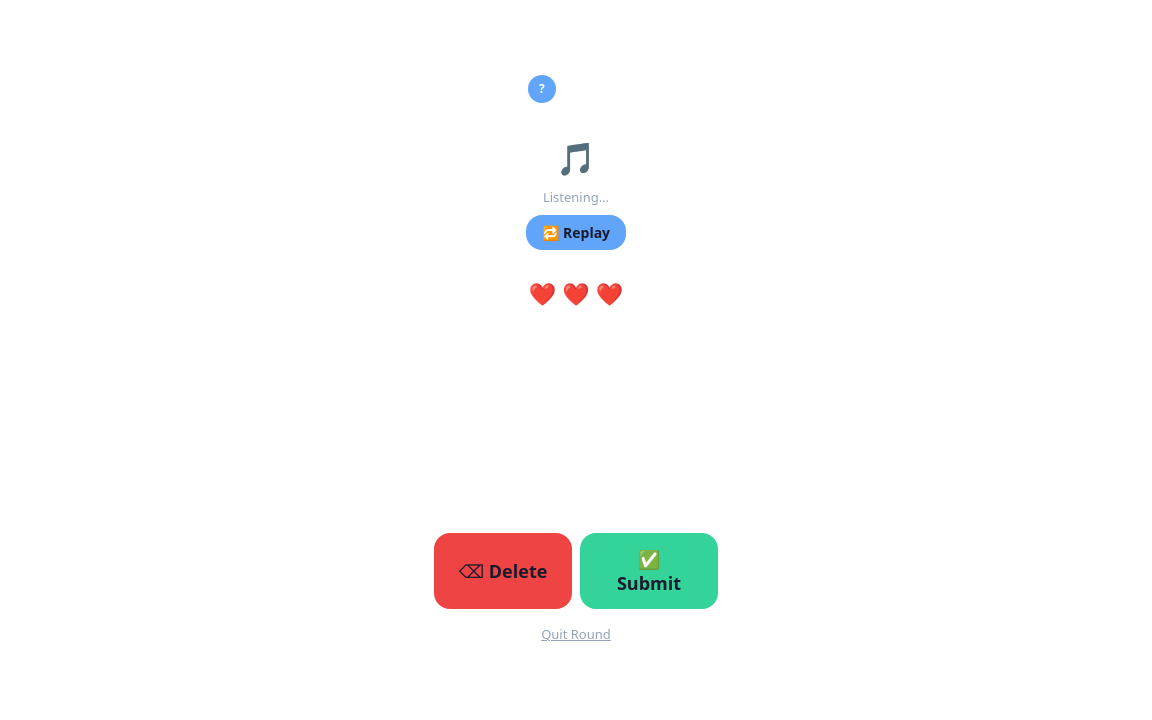
Test: Stage2Screen quit confirmation › shows confirmation dialog when quit is clicked
Click the text with test id "quit-button" at [576, 634], box [541, 625, 611, 643]
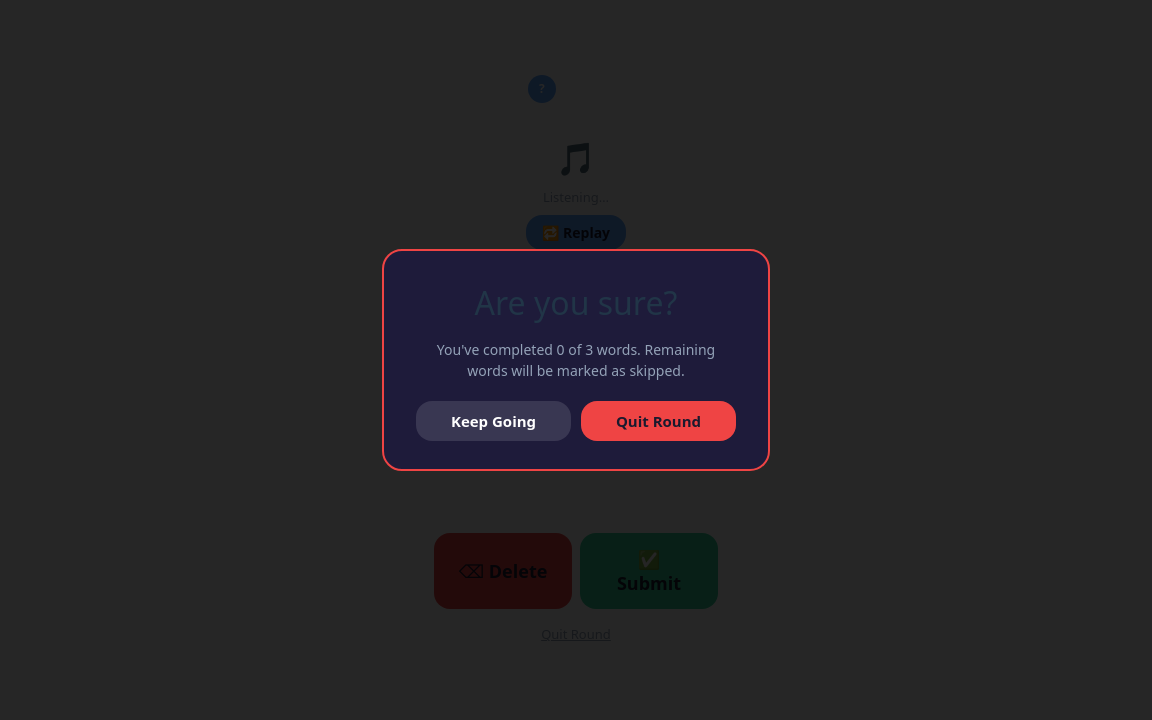
Result: the element with test id "quit-confirm" is shown
Result: the text "Are you sure?" is shown at [475, 281, 677, 324]
Result: the button "Keep Going" is shown at [416, 401, 571, 441]
